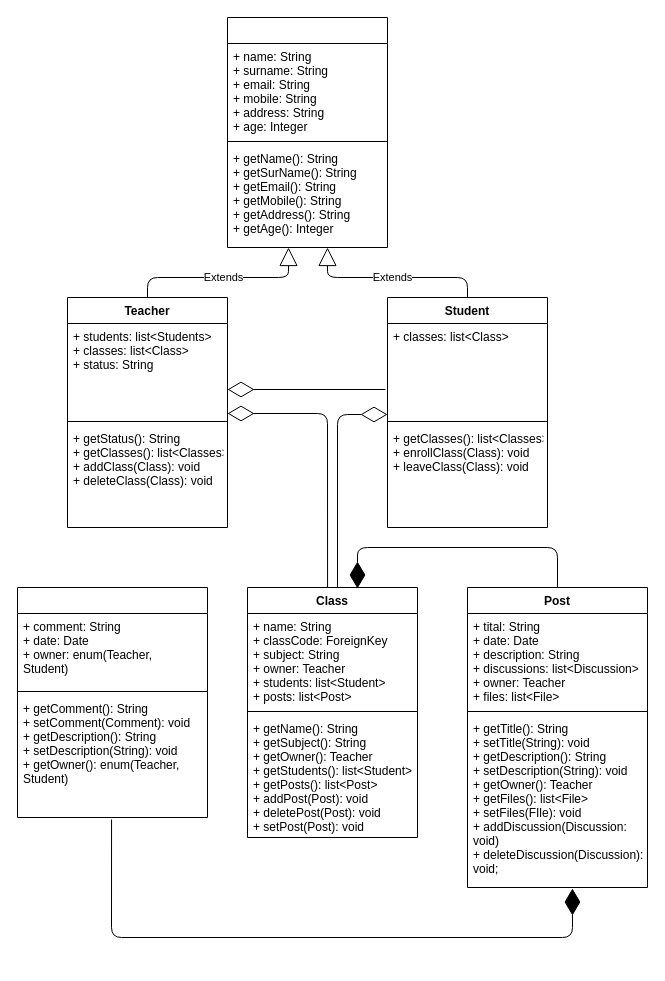
Some shapes in this 665 by 981 pixel diagram are drawn without their labels. The box of each missing label's shape, as (x1, y1, x2, y2) in pixels:
Discussion: (16, 586, 208, 818)
User: (226, 16, 388, 248)
